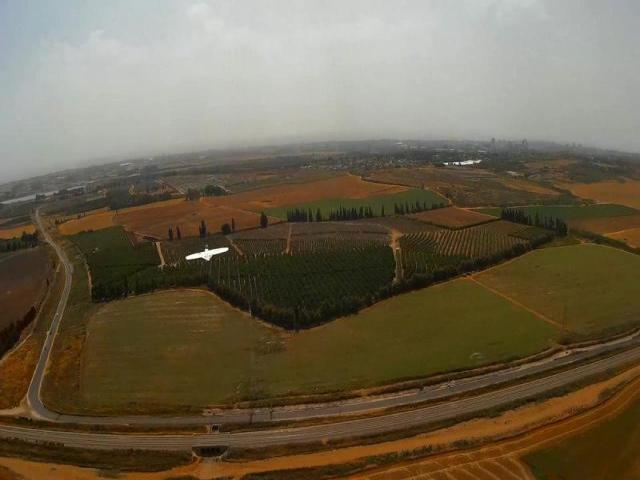hedef: (176, 236, 240, 274)
